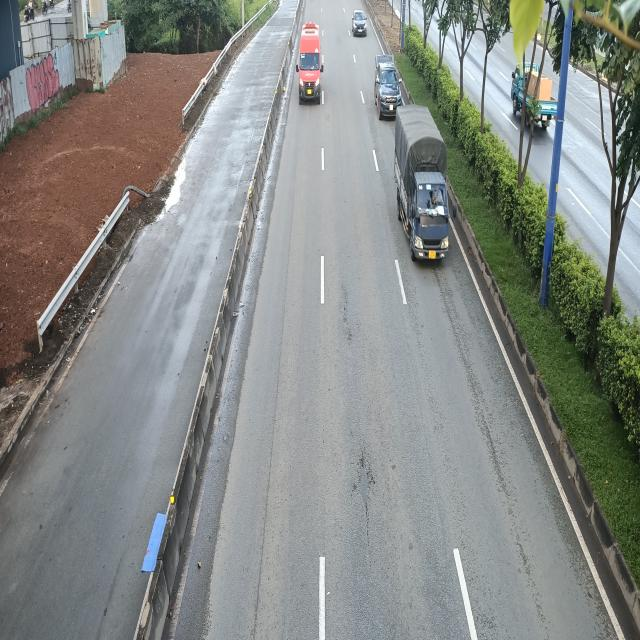car: (373, 54, 402, 118), (352, 11, 367, 37)
truck: (393, 107, 453, 267)
van: (296, 21, 324, 104)
